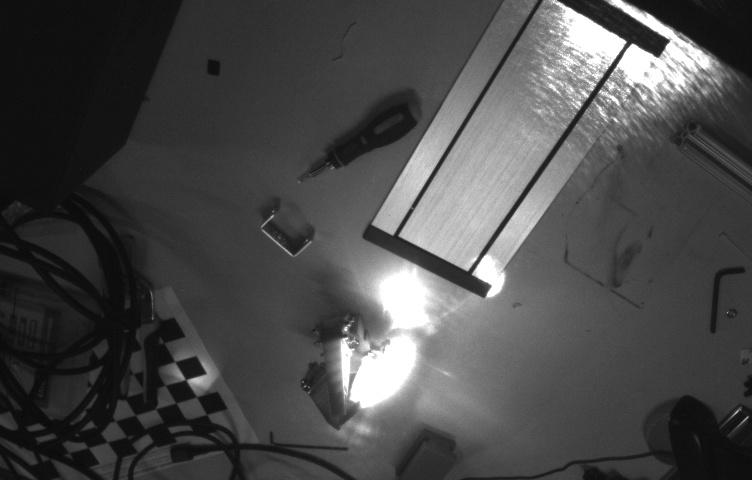Object robotic gripper finger assembly - Material metal - Pdfname Yy6dySnH33wN: (356, 346, 408, 403)
